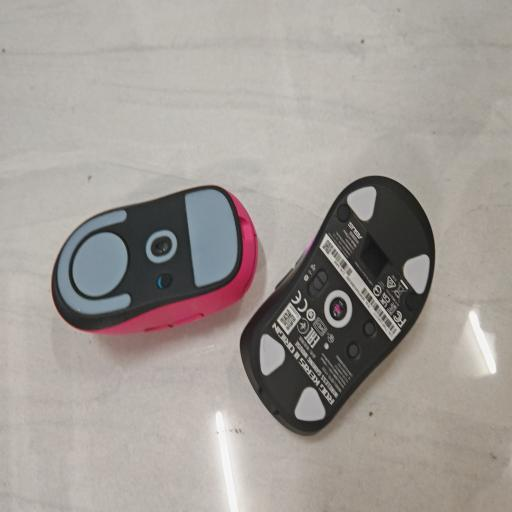mouse: (240, 176, 435, 434), (52, 186, 257, 334)
